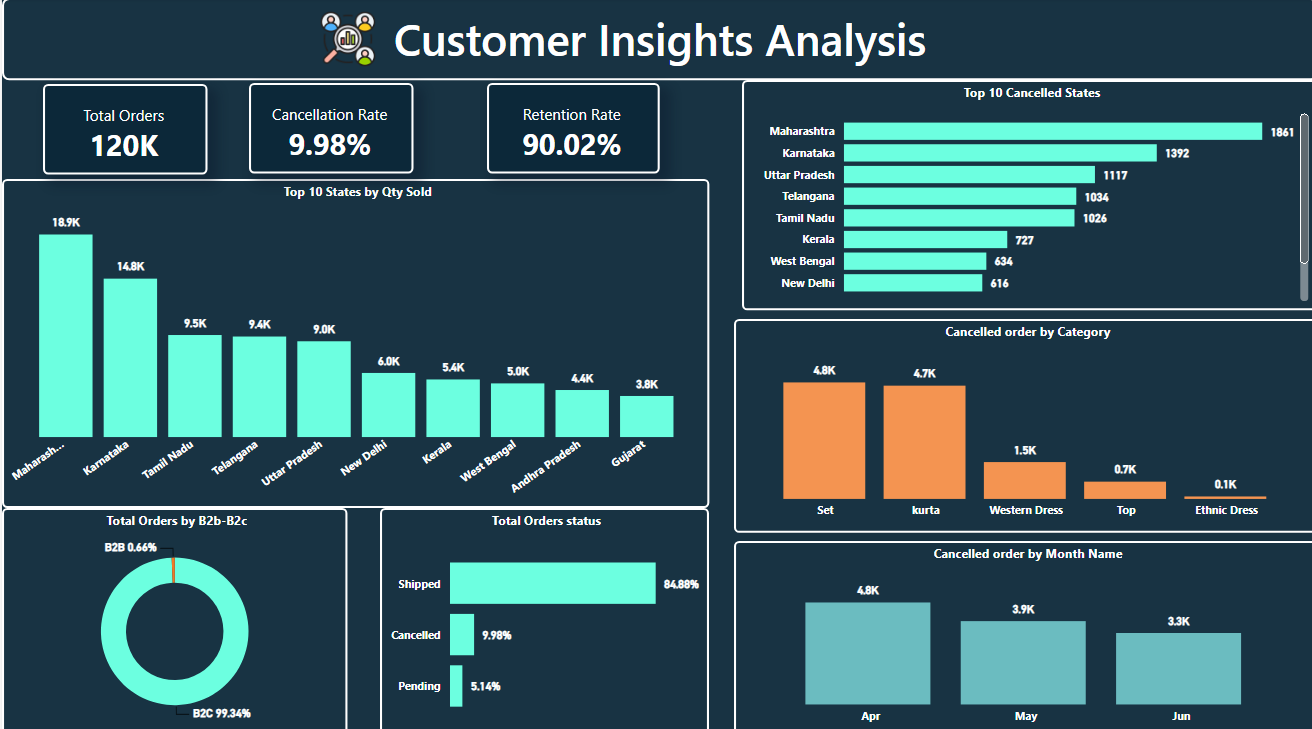

The page's visual inventory and layout, read from the dashboard file:
{"tool":"powerbi","page":{"name":"Customer insights","canvas":[1280,720],"ordinal":1},"visuals":[{"type":"textbox","box":[0,0,1280,80],"z":0},{"type":"image","box":[304,8,64,64],"z":1000},{"type":"columnChart","title":"Top 10 States by Qty Sold ","fields":{"Category":["Location.ship-state"],"Y":["Sum(Sales fact.Qty)"]},"box":[0,176,688,320],"z":2000},{"type":"pieChart","fields":{"Category":["Sales fact.B2b-B2c"],"Y":["Measure.Total Orders"]},"box":[0,496,336,224],"z":3000},{"type":"columnChart","fields":{"Y":["Measure.Cancelled order"],"Category":["DateTable.Month Name"]},"box":[712,528,568,192],"z":4000},{"type":"columnChart","fields":{"Y":["Measure.Cancelled order"],"Category":["Product.Category"]},"box":[712,312,568,208],"z":5000},{"type":"cardVisual","fields":{"Data":["Table.Total_orders"]},"box":[40,84,160,88],"z":6000},{"type":"cardVisual","fields":{"Data":["Measure.Canellation Rate"]},"box":[240,83,160,88],"z":7000},{"type":"cardVisual","fields":{"Data":["Measure.Retention Rate"]},"box":[472,83,168,88],"z":8000},{"type":"barChart","title":"Top 10 Cancelled States","fields":{"Category":["Location.ship-state"],"Y":["Measure.Cancelled order"]},"box":[720,80,560,224],"z":9000},{"type":"clusteredBarChart","title":"Total Orders status","fields":{"Category":["Sales fact.courier status2"],"Y":["Measure.Total Orders"]},"box":[368,496,320,224],"z":10000}]}

Visuals, with their boxes in screenshot pixels (x1, y1, x2, y2), scaled from the page's 1280x720 canvas onto the 1312x729 screenshot:
textbox: 0/0/1311/81
image: 312/8/377/73
"Top 10 States by Qty Sold " columnChart: 0/178/705/502
pieChart - Sales fact.B2b-B2c x Measure.Total Orders: 0/502/344/728
columnChart - Measure.Cancelled order x DateTable.Month Name: 730/535/1311/728
columnChart - Measure.Cancelled order x Product.Category: 730/316/1311/526
cardVisual - Table.Total_orders: 41/85/205/174
cardVisual - Measure.Canellation Rate: 246/84/410/173
cardVisual - Measure.Retention Rate: 484/84/656/173
"Top 10 Cancelled States" barChart: 738/81/1311/308
"Total Orders status" clusteredBarChart: 377/502/705/728
